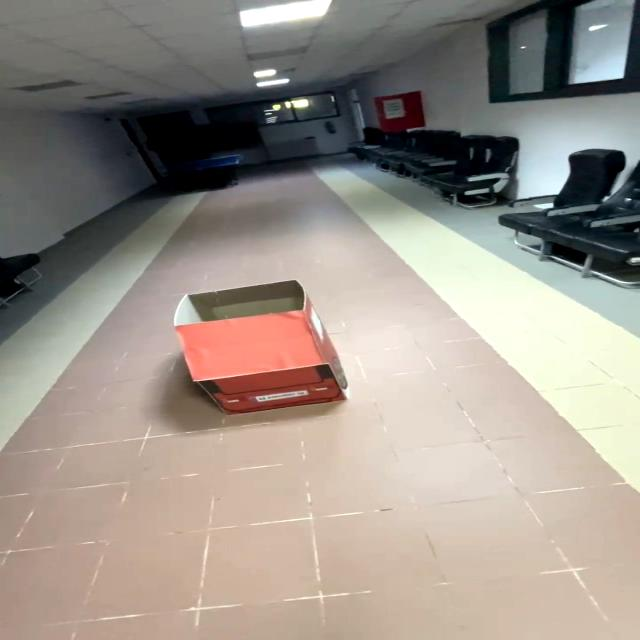red_car: (142, 262, 372, 443)
